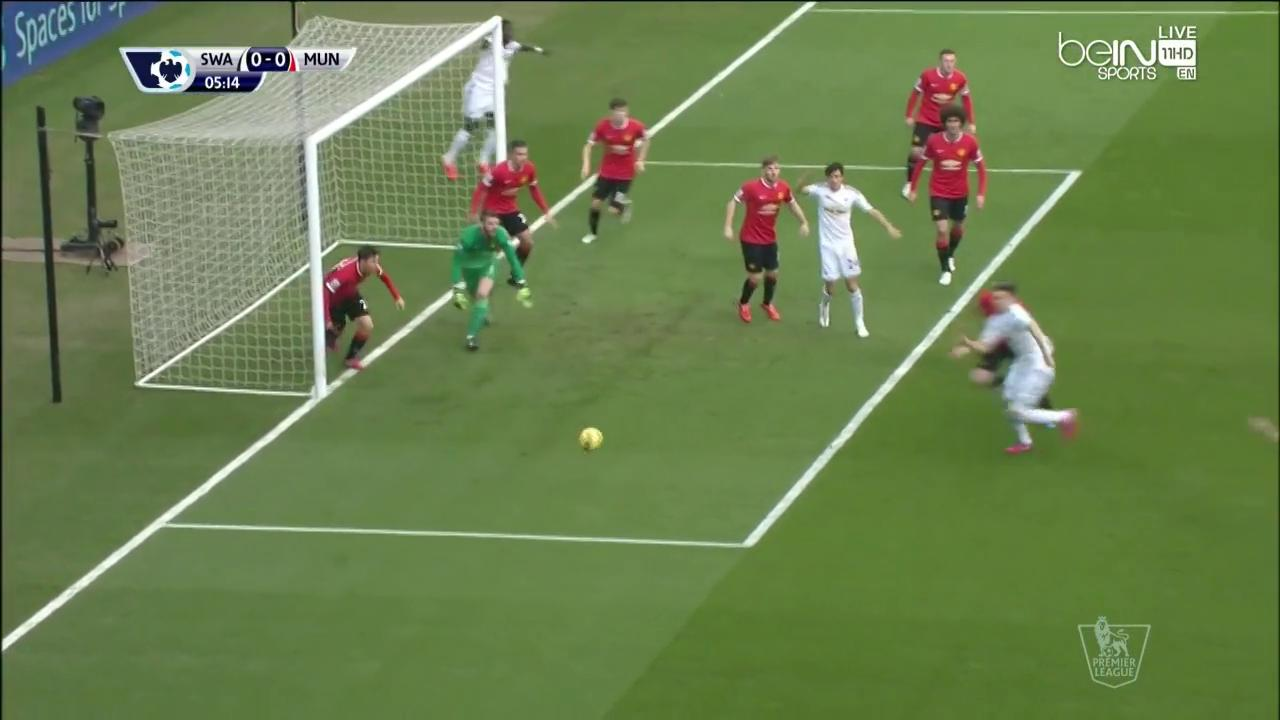football: (578, 426, 605, 453)
